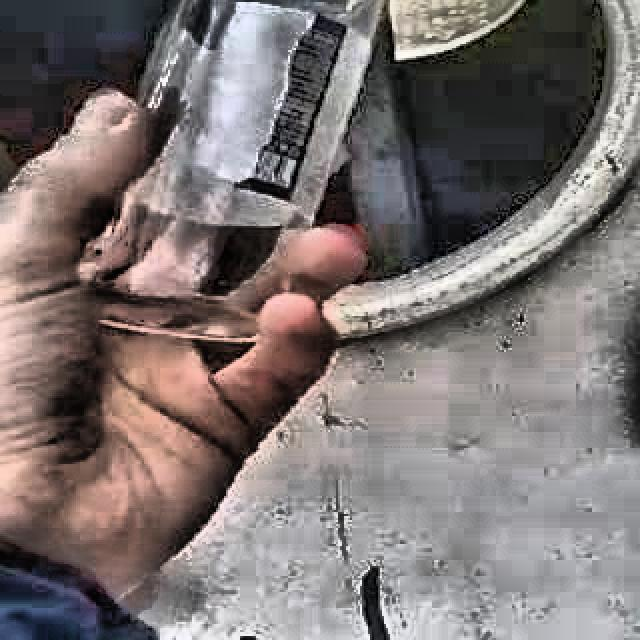glass: (80, 0, 383, 342)
